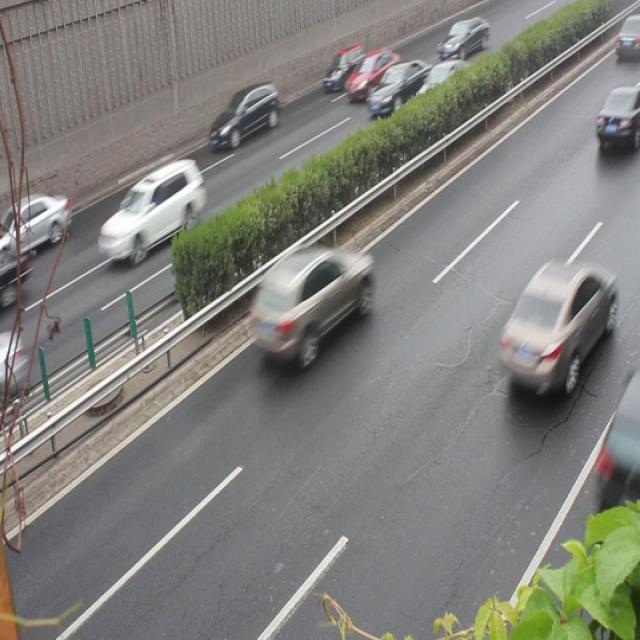car: (498, 259, 616, 394), (251, 244, 373, 368), (100, 163, 202, 262), (0, 192, 70, 262), (208, 82, 277, 151), (593, 83, 640, 153)
